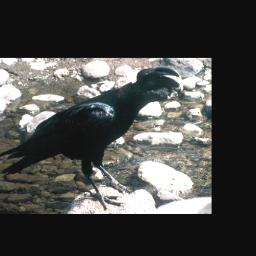Crow: (0, 65, 185, 210)
